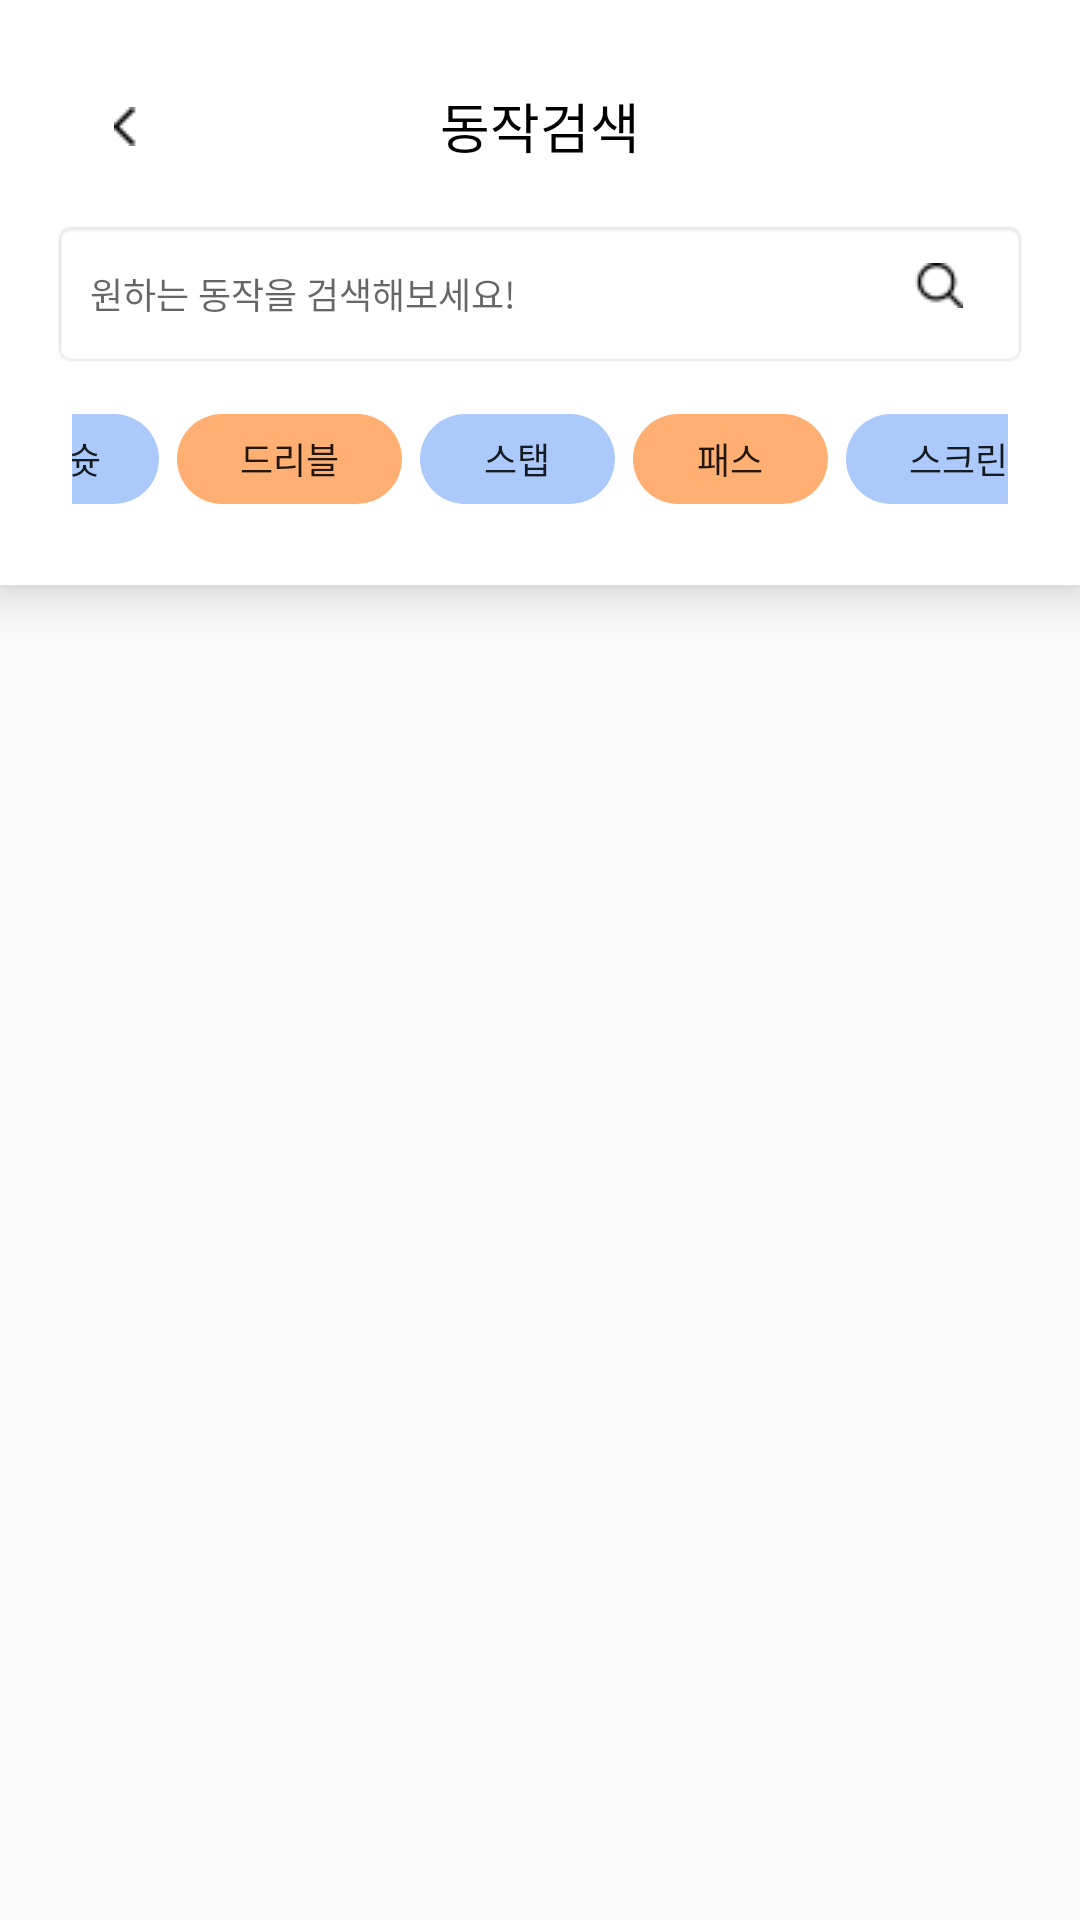

Named icons in this screenshot (1080×1920) and their bounding boxes, [x1, y1, x2, y2]:
backbutton: [114, 107, 136, 146]
search: [915, 263, 963, 308]
